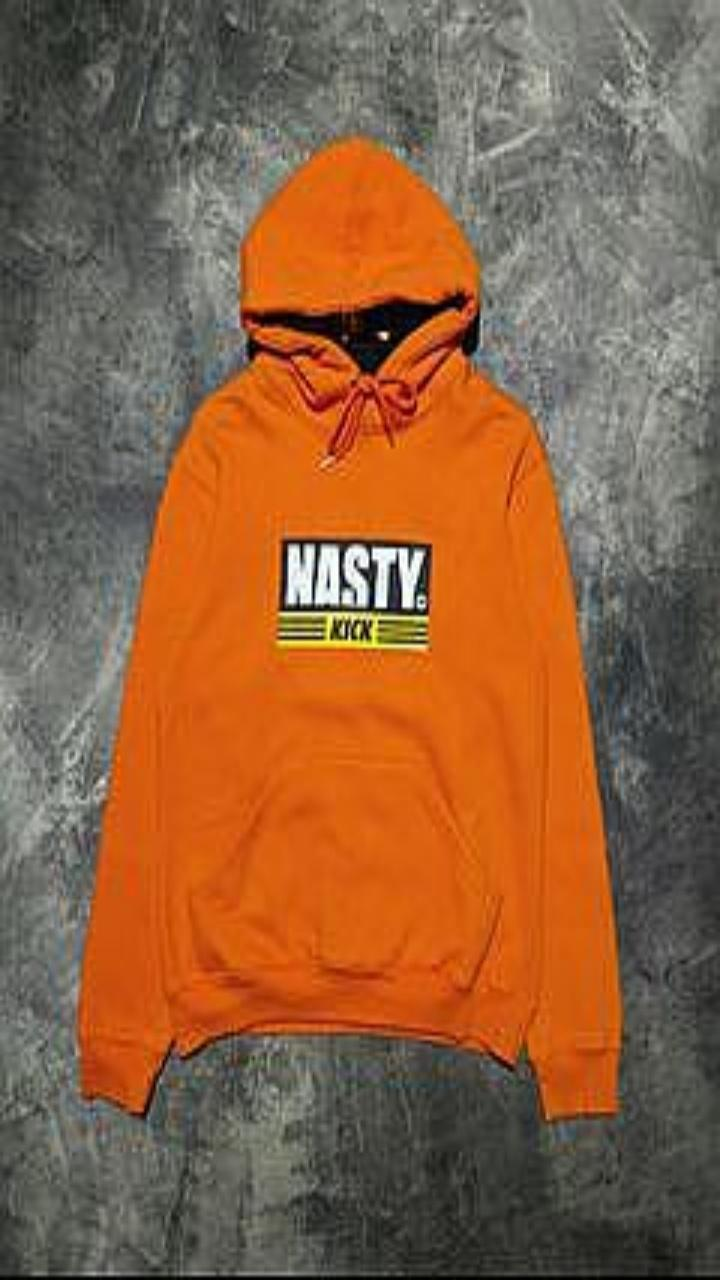Hoodie: (78, 136, 621, 1118)
